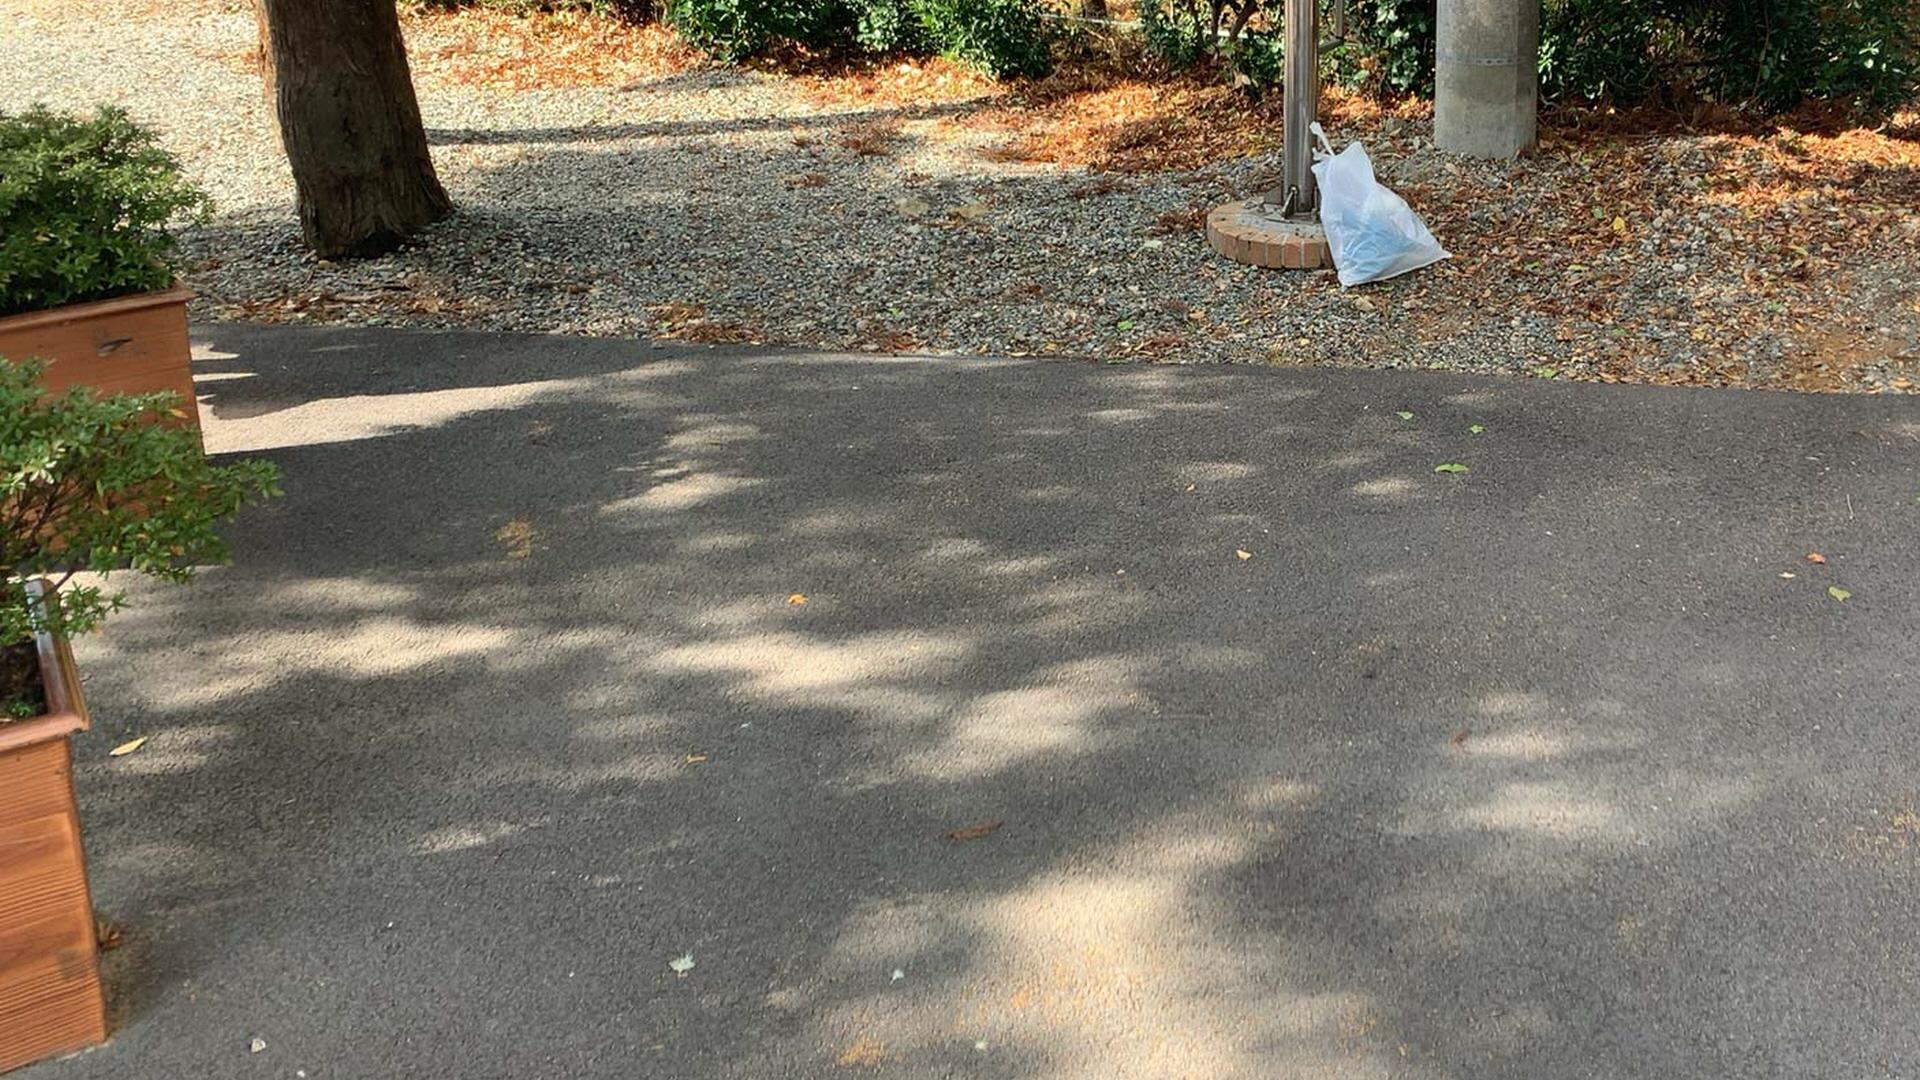white_bag: (1298, 116, 1469, 293)
